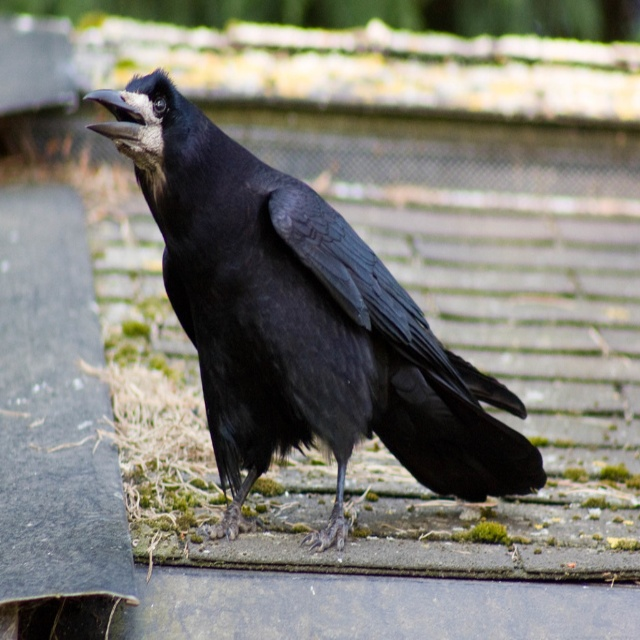Raven: (82, 66, 547, 553)
